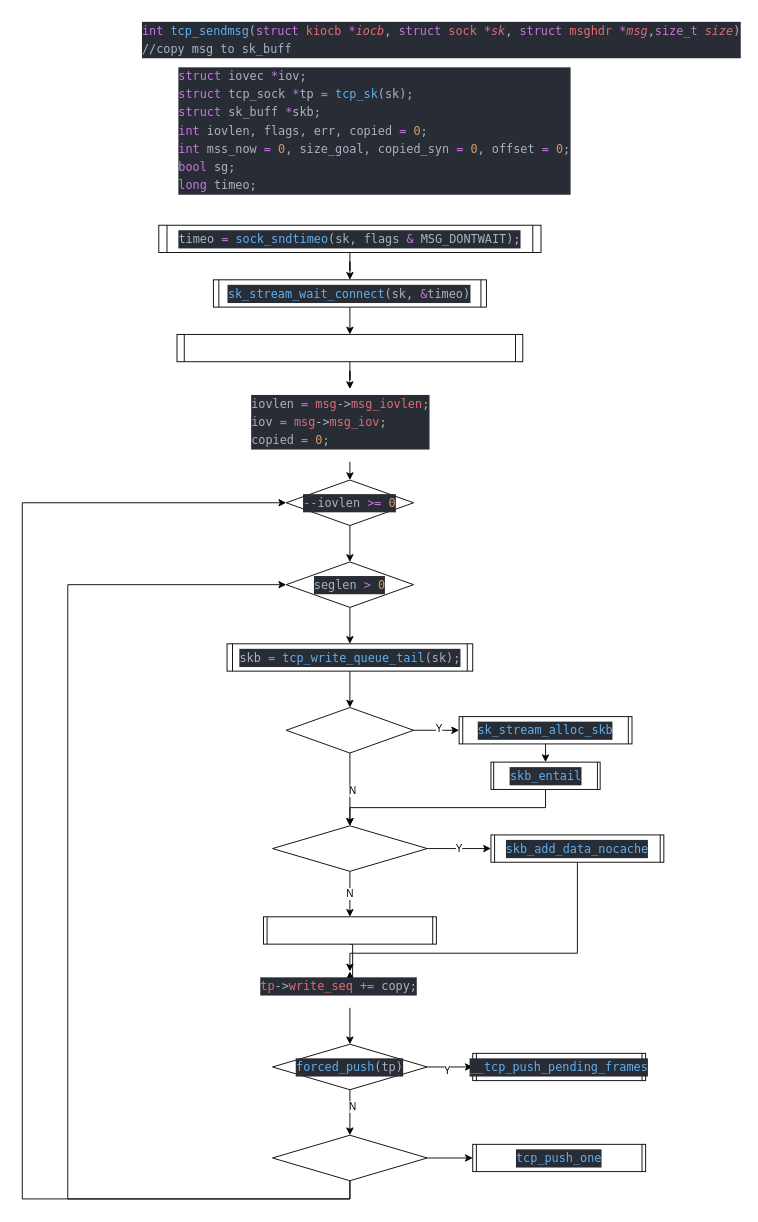
Some shapes in this 758 by 1222 pixel diagram are drawn without their labels. The centre of each missing label's shape, as x and y in pixels:
"first seg" belongs at pixel 349 1157.
"mss_now = tcp_send_mss (sk, & size_goal, flags);" belongs at pixel 349 348.
"new_sengment" belongs at pixel 349 730.
"skb_availroom(skb) >0" belongs at pixel 349 848.
"skb_copy_to_page_nocache" belongs at pixel 349 930.
